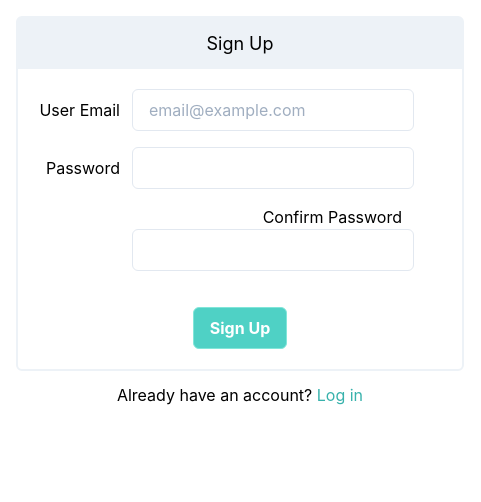
Test: invalid input to email shows error
Step 1. Type "example@love" into the field labelled "User Email" → point(273, 110), box [132,89,414,131]
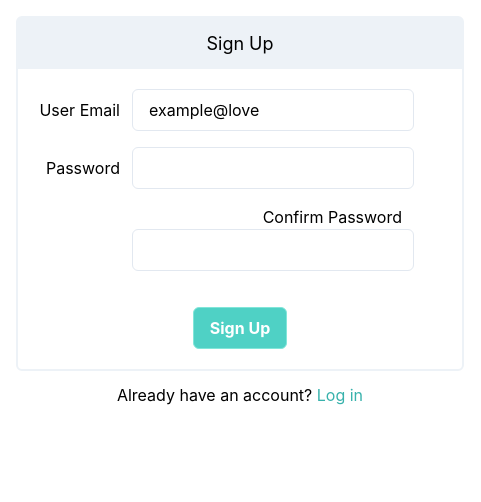
Step 2. Click the button → point(240, 328), box [193,307,287,349]
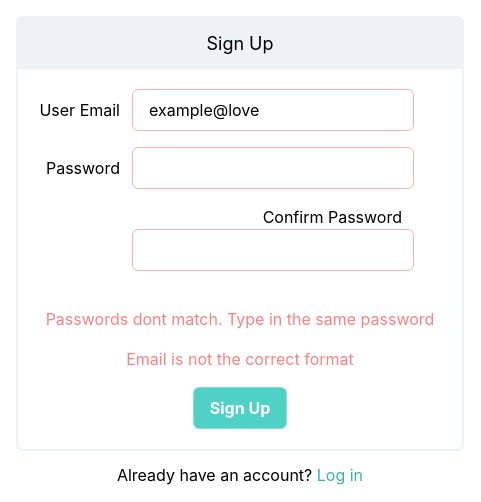
Result: the text "Email is not the correct format" is shown at [126,349,354,369]
